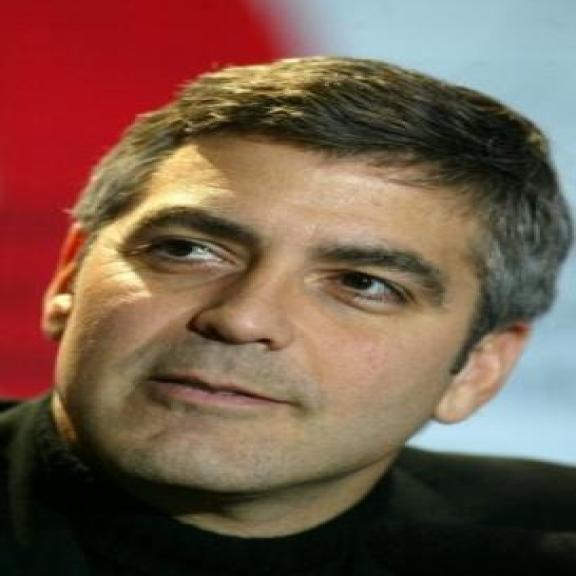face: (38, 120, 533, 494)
